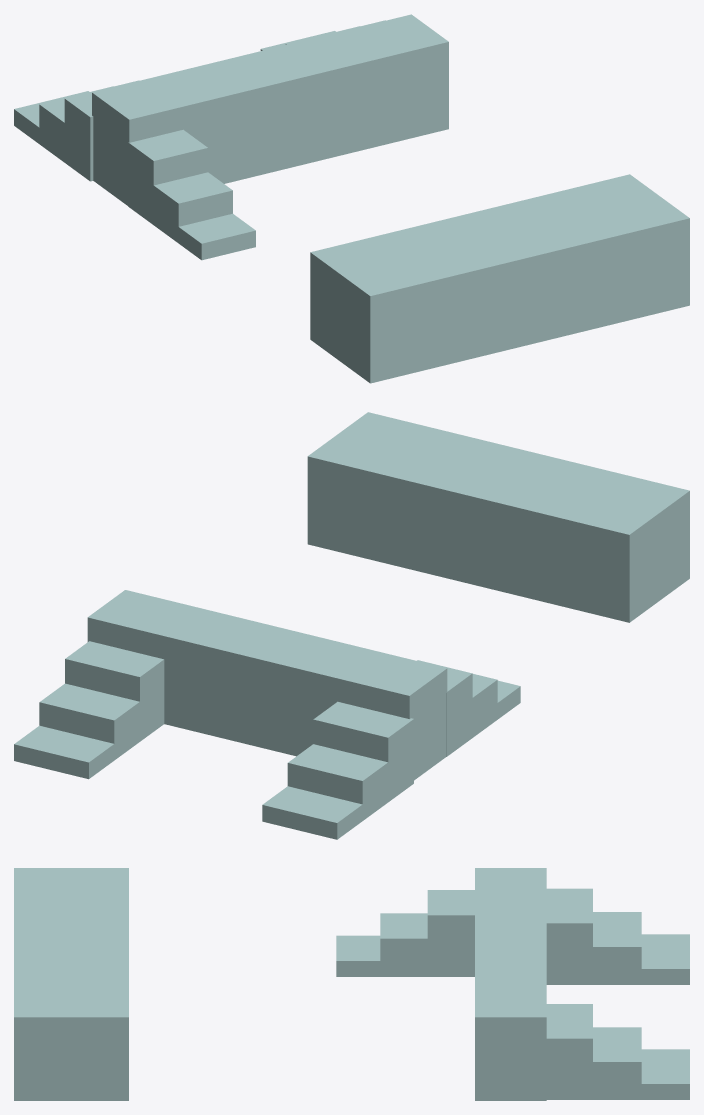
File: tutorial_gliding_platforms.fbx
3 views of the same model, one above another, from view 1: azimuth 30°, elevation 25°; view 2: azimuth 150°, elevation 25°; view 3: azimuth 270°, elevation 25° (orthographic). The views are drawn at different scales.
Visible parts, largest first — view 1: platform3, platform4, platform2, platform1, platform, platform10, platform9, platform8; view 2: platform3, platform4, platform10, platform5, platform9, platform6, platform7, platform8, platform2, platform1, platform; view 3: platform3, platform4, platform10, platform5, platform2, platform9, platform6, platform1, platform7, platform8, platform.
Part boxes in pixels (x1=…): platform3: x1=310, y1=174, x2=689, y2=383; platform4: x1=92, y1=14, x2=448, y2=205; platform2: x1=128, y1=129, x2=207, y2=224; platform1: x1=153, y1=172, x2=232, y2=242; platform: x1=178, y1=213, x2=255, y2=260; platform10: x1=64, y1=80, x2=139, y2=181; platform9: x1=39, y1=86, x2=113, y2=162; platform8: x1=14, y1=91, x2=89, y2=143; platform3: x1=307, y1=412, x2=689, y2=622; platform4: x1=87, y1=590, x2=447, y2=780; platform10: x1=313, y1=701, x2=413, y2=801; platform5: x1=65, y1=641, x2=164, y2=741; platform9: x1=287, y1=744, x2=388, y2=820; platform6: x1=39, y1=683, x2=139, y2=759; platform7: x1=14, y1=725, x2=114, y2=779; platform8: x1=262, y1=786, x2=362, y2=839; platform2: x1=417, y1=660, x2=472, y2=756; platform1: x1=472, y1=674, x2=497, y2=737; platform: x1=497, y1=680, x2=520, y2=719; platform3: x1=14, y1=868, x2=128, y2=1100; platform4: x1=475, y1=868, x2=546, y2=1100; platform10: x1=546, y1=888, x2=592, y2=984; platform5: x1=546, y1=1004, x2=592, y2=1099; platform2: x1=427, y1=890, x2=474, y2=976; platform9: x1=592, y1=912, x2=641, y2=984; platform6: x1=593, y1=1027, x2=641, y2=1099; platform1: x1=380, y1=913, x2=429, y2=976; platform7: x1=641, y1=1049, x2=689, y2=1099; platform8: x1=641, y1=934, x2=689, y2=984; platform: x1=336, y1=935, x2=380, y2=976.
Bounding box in the file's own units: 15.7 × 4.06 × 29.77.
